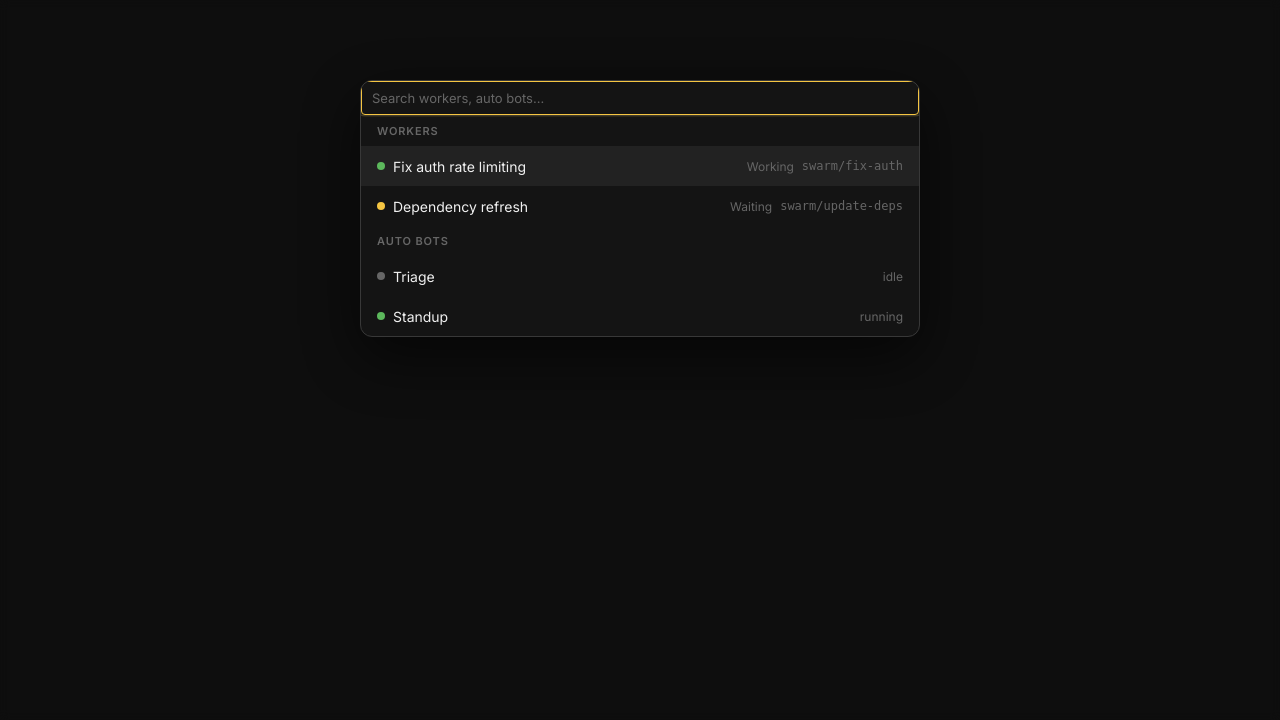
Scenario: CommandPalette › filters workers by query
This screenshot has width=1280, height=720.
Step 1. Type "auth" into the field with test id "command-palette-input" → [640, 98], box [361,81,919,115]
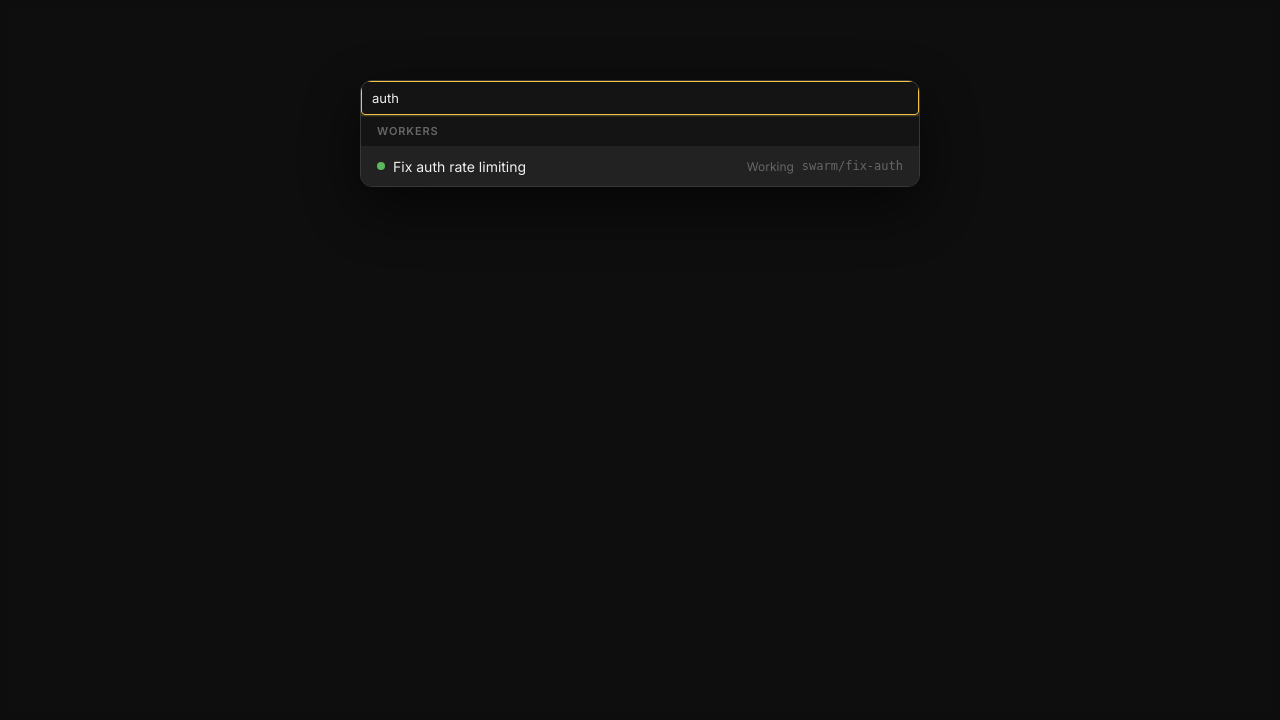
Expected: the text "Fix auth rate limiting" is shown, [393,158,526,174]
Now the button "Dependency refresh" is gone
